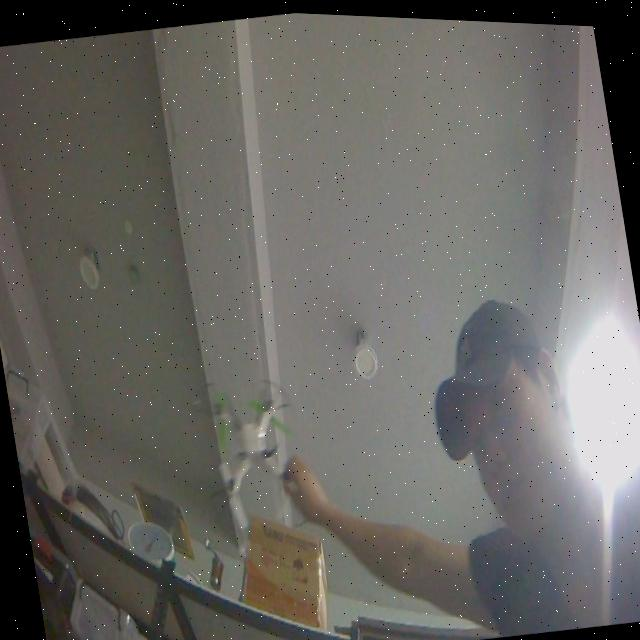drone: (183, 359, 320, 541)
